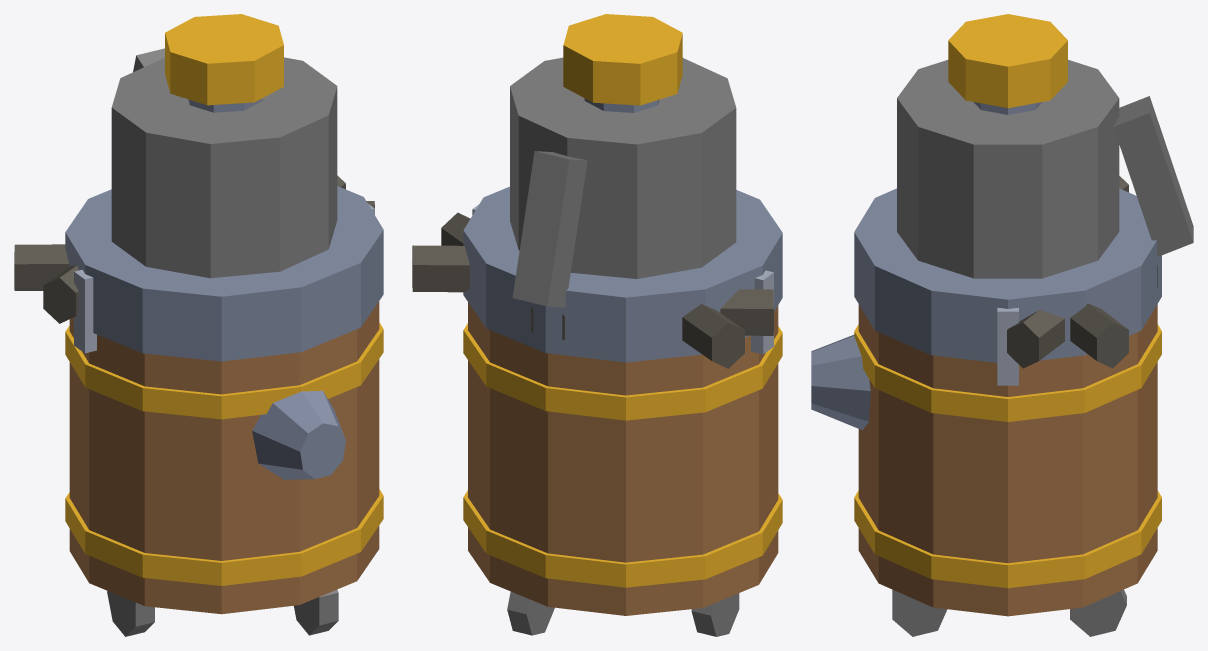
The model's file is vacuum_industrial.glb.
3 views of the same model, side by side, from view 1: azimuth 30°, elevation 25°; view 2: azimuth 150°, elevation 25°; view 3: azimuth 270°, elevation 25° (orthographic).
Parts seen in each view (by area): view 1: vacuum_industrial; view 2: vacuum_industrial; view 3: vacuum_industrial.
Boxes of the visible parts, left/top/right/bottom form: vacuum_industrial: left=14, top=14, right=383, bottom=636; vacuum_industrial: left=412, top=14, right=782, bottom=636; vacuum_industrial: left=811, top=14, right=1193, bottom=636.
Bounding box in the file's own units: 0.75 × 1.23 × 0.75.
